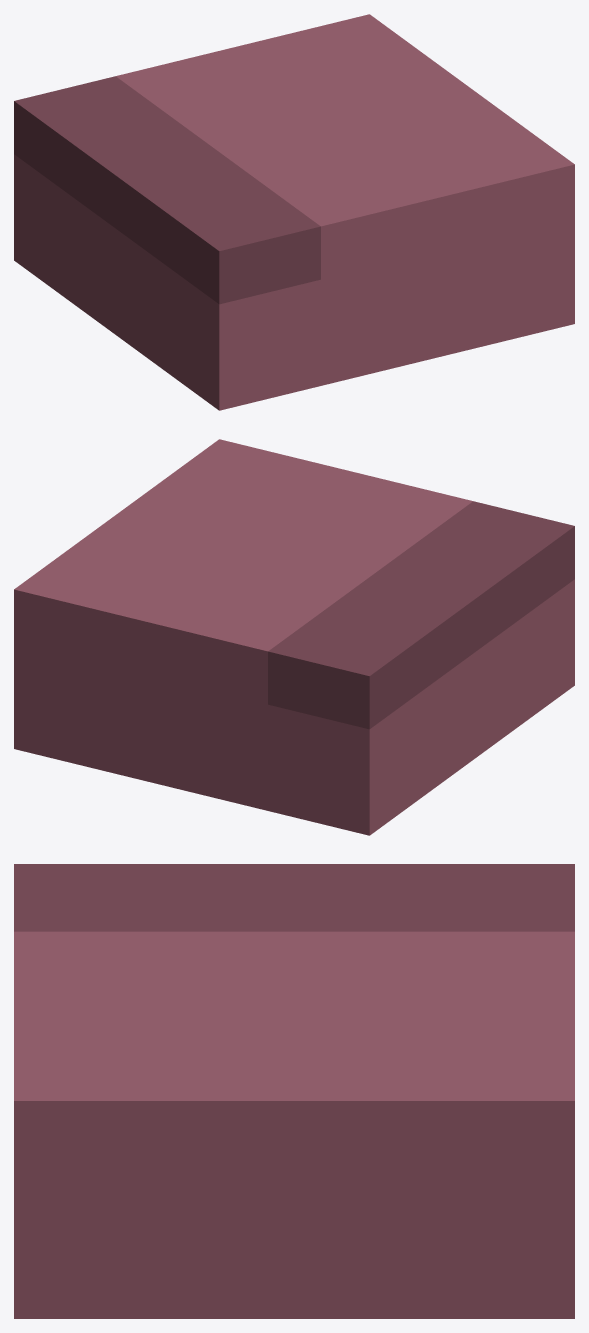
The model's file is libro_01.glb.
The picture shows the model from 3 angles, top to bottom: view 1: azimuth 30°, elevation 25°; view 2: azimuth 150°, elevation 25°; view 3: azimuth 270°, elevation 25°; orthographic projection. The views are drawn at different scales.
Parts seen in each view (by area): view 1: libro; view 2: libro; view 3: libro.
Part boxes in pixels (left/top/right/bottom): libro: left=14, top=14, right=574, bottom=410; libro: left=14, top=439, right=574, bottom=835; libro: left=14, top=864, right=574, bottom=1318.
Size of the model in its own units: 0.5833 by 0.25 by 0.5833.
